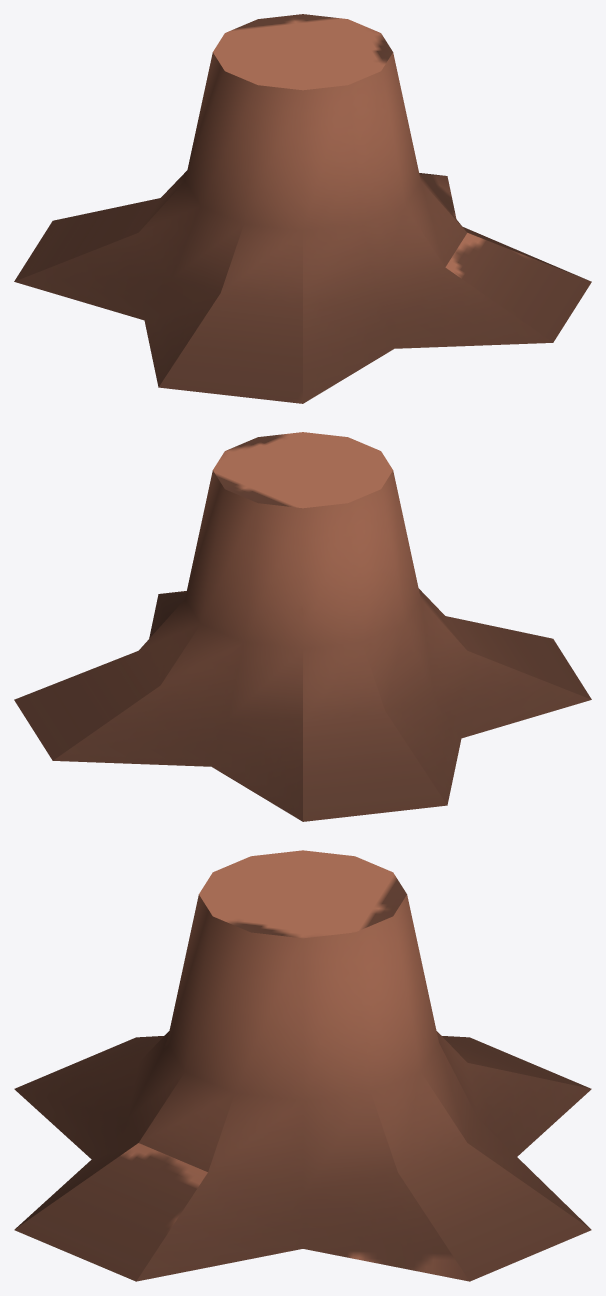
Rendered from Stump1.fbx.
3 renders of one model, top to bottom at view 1: azimuth 30°, elevation 25°; view 2: azimuth 150°, elevation 25°; view 3: azimuth 270°, elevation 25°, orthographic. The views are drawn at different scales.
Parts seen in each view (by area): view 1: Fir2.001; view 2: Fir2.001; view 3: Fir2.001.
Part boxes in pixels (x1,y1,x2,y2): Fir2.001: [14, 14, 591, 403]; Fir2.001: [14, 432, 591, 821]; Fir2.001: [14, 850, 591, 1281].
Size of the model in its own units: 256 by 129 by 256.
